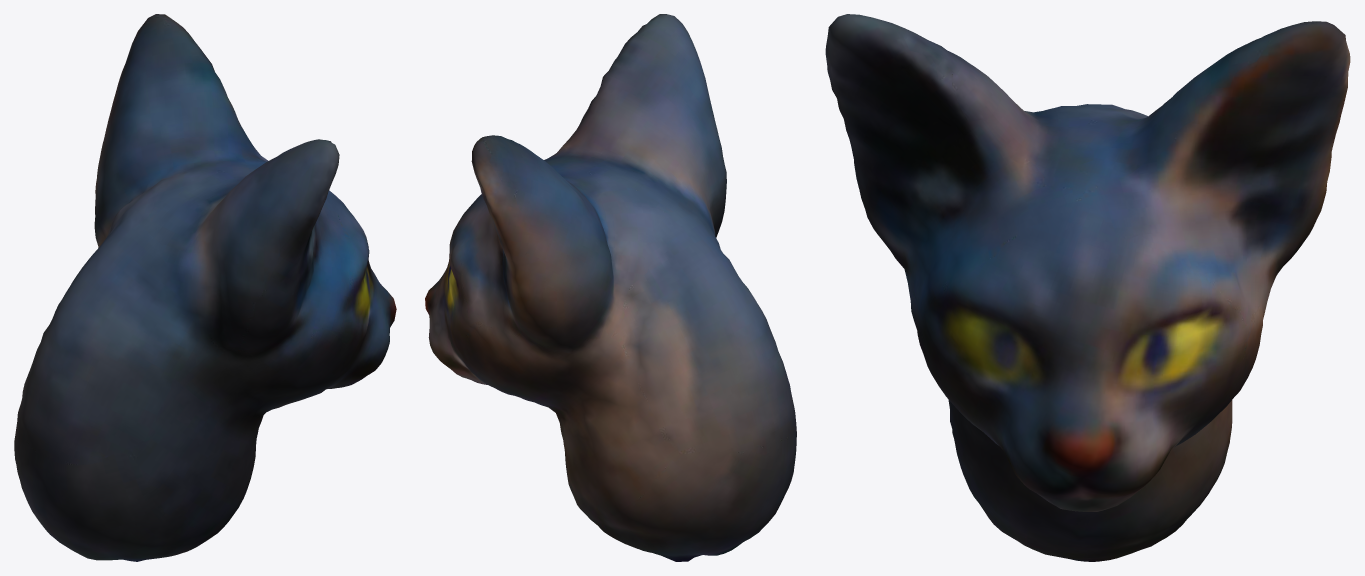
File: 046_Create_cat_with_Oval_face_with_intense_eyes_a_neutral__0614163241_preview.obj
3 views of the same model, side by side, from view 1: azimuth 30°, elevation 25°; view 2: azimuth 150°, elevation 25°; view 3: azimuth 270°, elevation 25° (orthographic). The views are drawn at different scales.
Parts seen in each view (by area): view 1: Mesh1; view 2: Mesh1; view 3: Mesh1.
Boxes of the visible parts, box(x1,y1,x2,y2) form: Mesh1: box(14, 14, 396, 561); Mesh1: box(425, 14, 796, 561); Mesh1: box(825, 14, 1350, 561).
Size of the model in its own units: 1.01 by 1.2 by 0.9597.
Materials: 1 (1 with a texture image).
